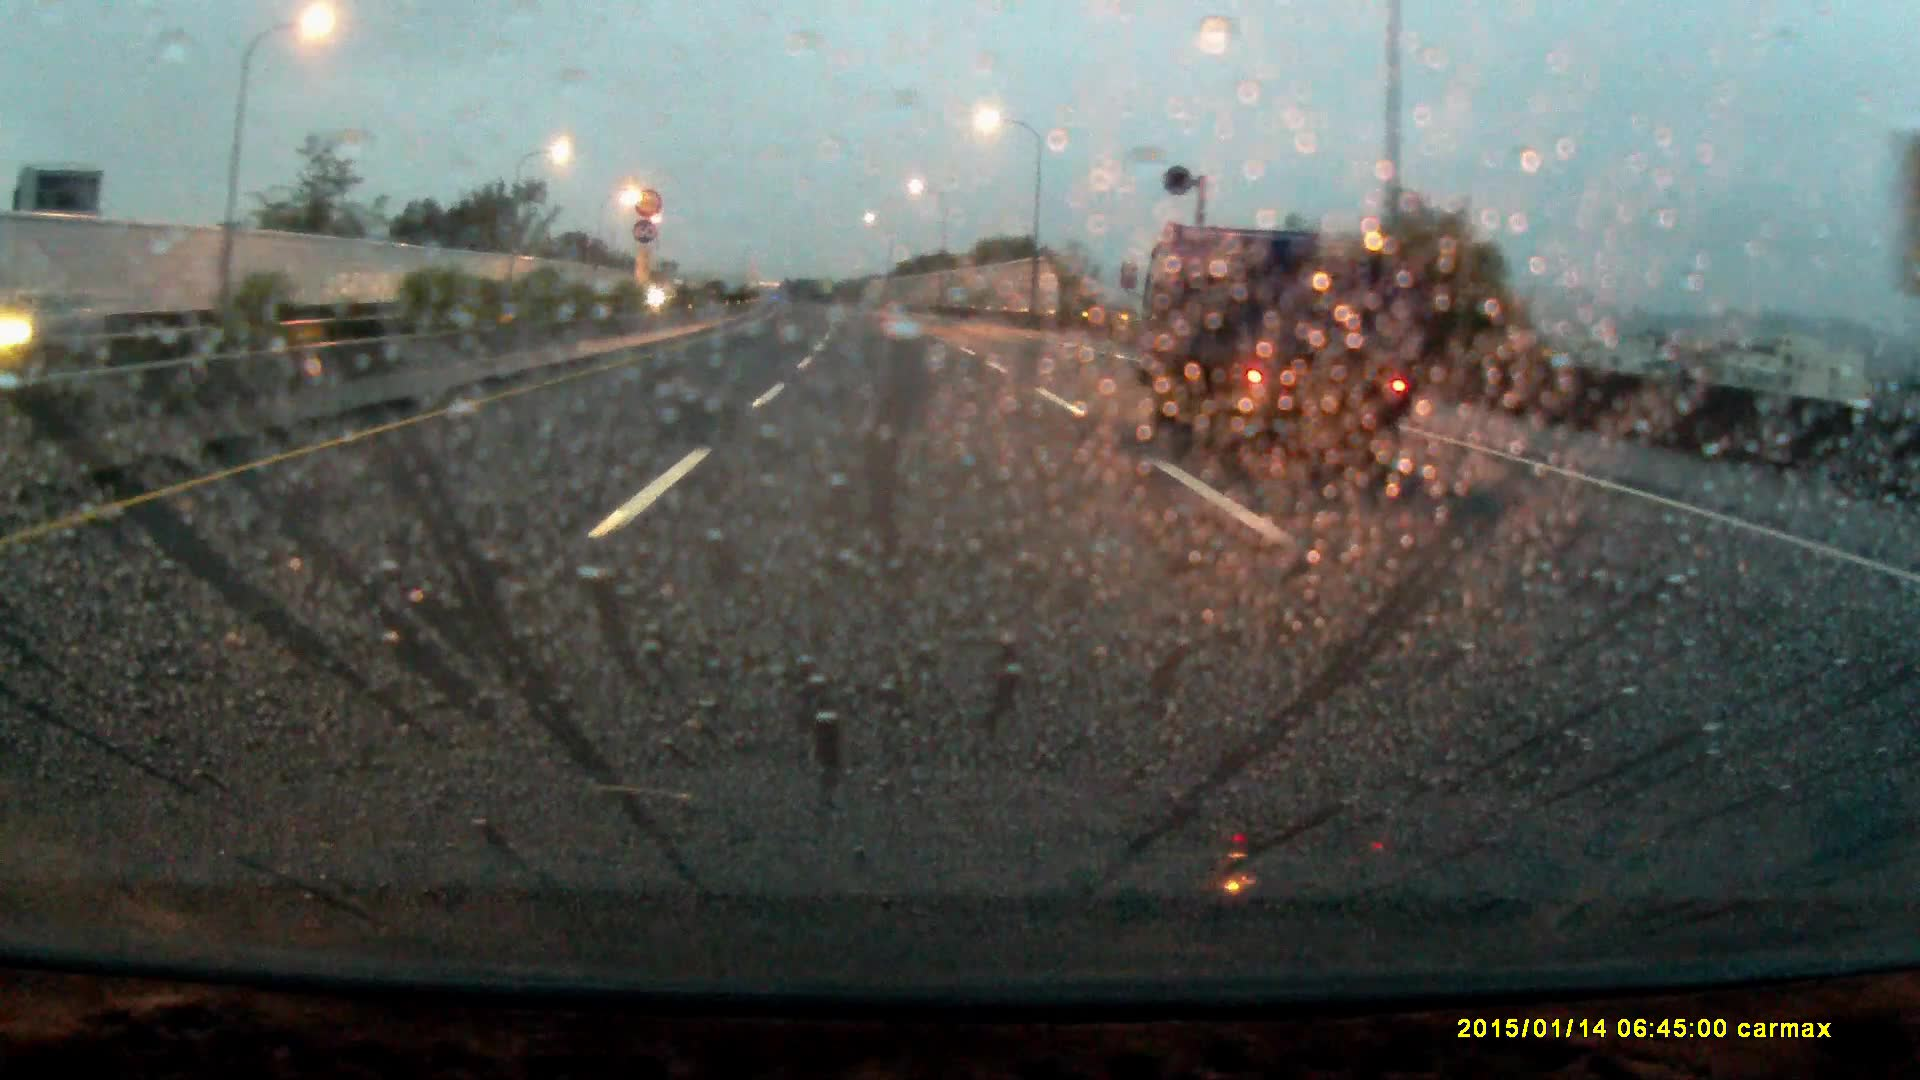vehicle: (1166, 214, 1441, 496)
